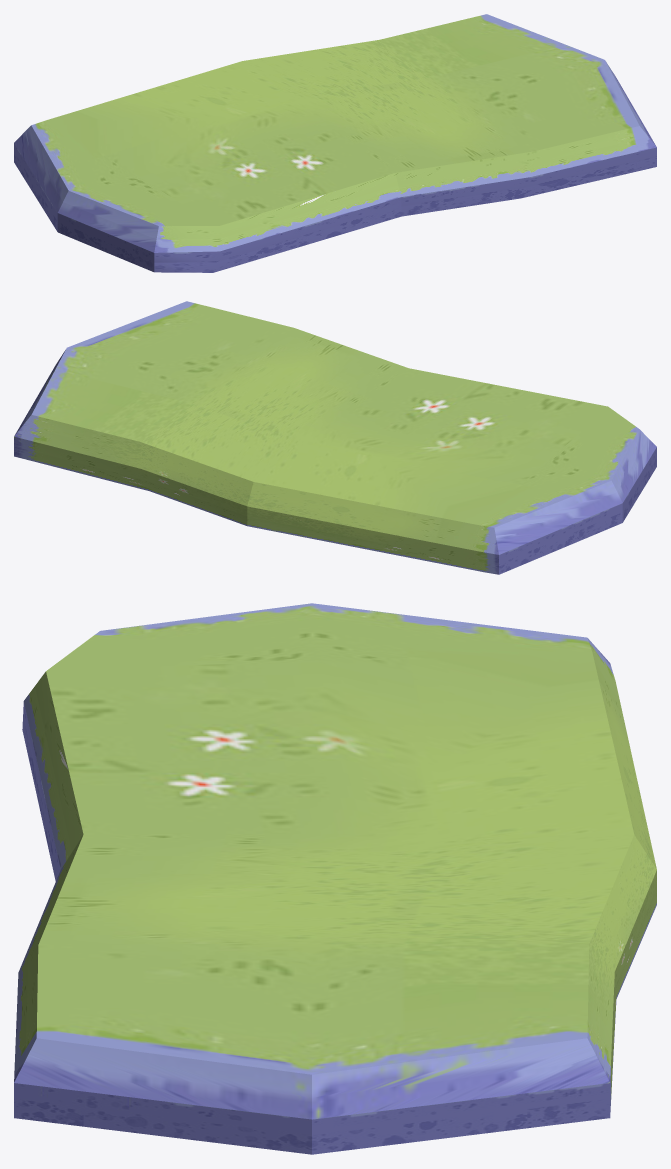
The model's file is land_01.obj.
3 renders of one model, top to bottom at view 1: azimuth 30°, elevation 25°; view 2: azimuth 150°, elevation 25°; view 3: azimuth 270°, elevation 25°, orthographic. The views are drawn at different scales.
Visible parts, largest first — view 1: land_01:land_01; view 2: land_01:land_01; view 3: land_01:land_01.
Boxes of the visible parts, left/top/right/bottom form: land_01:land_01: left=14, top=14, right=656, bottom=272; land_01:land_01: left=14, top=301, right=656, bottom=574; land_01:land_01: left=14, top=603, right=656, bottom=1154.
Size of the model in its own units: 3.29 by 0.2197 by 1.82.
Materials: 1 (1 with a texture image).
